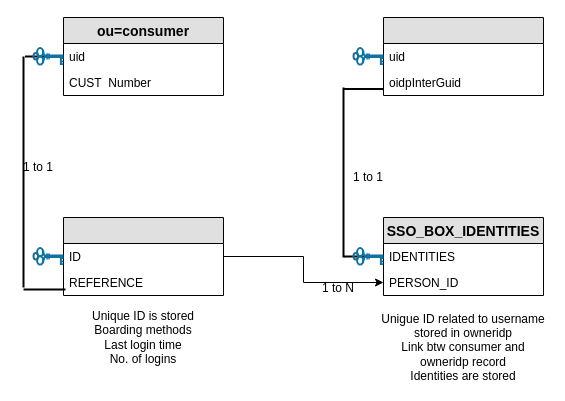
This 565x401 diagram has some shape labels left out. Here are the shapes that lost their labels. From the top down, the box of each, then its label:
(382, 16, 544, 96): ou=owneridp
(62, 216, 224, 296): SSO_BOX_PEOPLE
